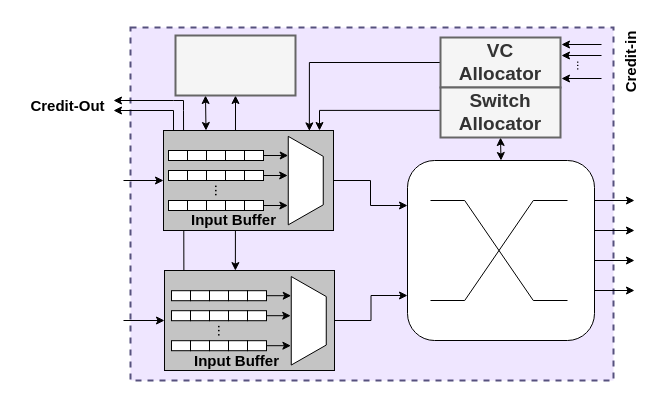
The diagram is 662 pixels wide and 398 high, and some of its shapes have lost their labels. The shapes that lost their labels are listed below. From the top down, each one's centre as x and y in pixels, then its label:
At [235,65]: "Route Compute".
At [500,250]: "Crossbar".
